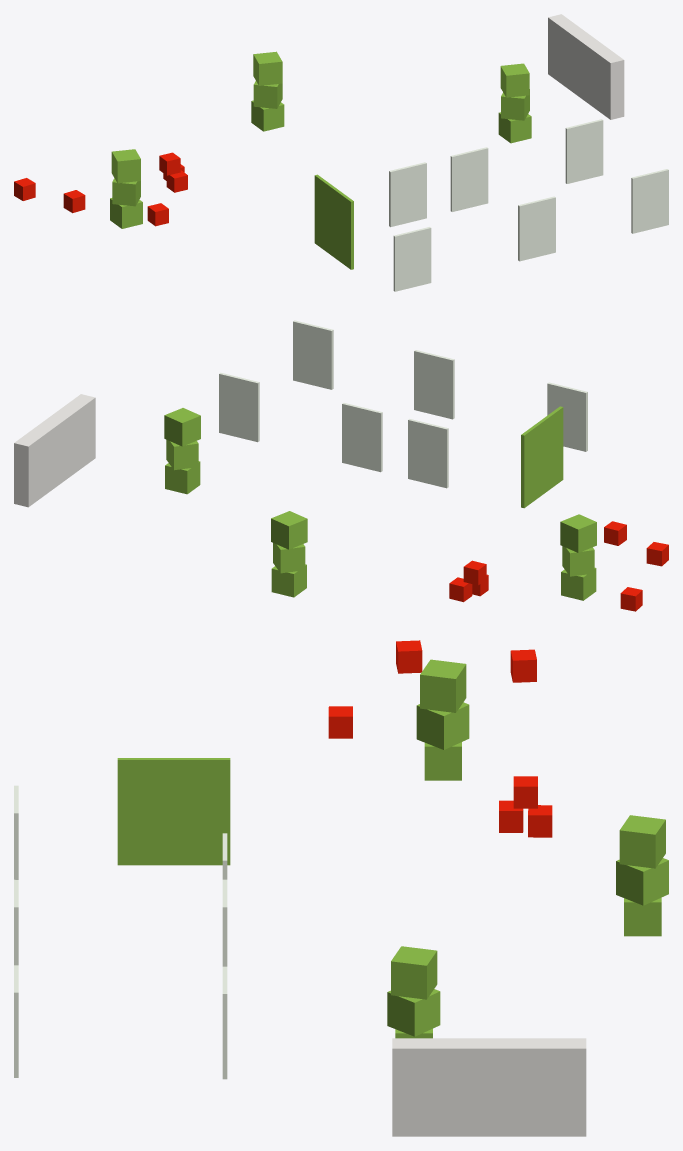
Rendered from Allestimento_Gruppo4.obj.
The picture shows the model from 3 angles, top to bottom: view 1: azimuth 30°, elevation 25°; view 2: azimuth 150°, elevation 25°; view 3: azimuth 270°, elevation 25°; orthographic projection. The views are drawn at different scales.
Parts seen in each view (by area): view 1: Mesh1 Model, Mesh2 Model, Mesh15 Model, Mesh16 Model, Mesh17 Model, Mesh12 Model, Mesh18 Model, Mesh13 Model, Mesh14 Model, Mesh8 Model, Mesh10 Model, Mesh7 Model (+6 smaller); view 2: Mesh1 Model, Mesh2 Model, Mesh17 Model, Mesh13 Model, Mesh18 Model, Mesh12 Model, Mesh16 Model, Mesh15 Model, Mesh10 Model, Mesh8 Model, Mesh14 Model, Mesh3 Model (+6 smaller); view 3: Mesh1 Model, Mesh2 Model, Mesh10 Model, Mesh14 Model, Mesh11 Model, Mesh3 Model, Mesh7 Model, Mesh5 Model, Mesh8 Model, Mesh9 Model, Mesh6 Model, Mesh4 Model.
Part boxes in pixels (bbox=[...]): Mesh1 Model: bbox=[548, 14, 624, 119]; Mesh2 Model: bbox=[314, 174, 353, 269]; Mesh15 Model: bbox=[393, 227, 431, 291]; Mesh16 Model: bbox=[450, 147, 488, 211]; Mesh17 Model: bbox=[565, 119, 603, 183]; Mesh12 Model: bbox=[389, 162, 426, 227]; Mesh18 Model: bbox=[518, 196, 555, 261]; Mesh13 Model: bbox=[631, 169, 668, 233]; Mesh14 Model: bbox=[251, 81, 284, 131]; Mesh8 Model: bbox=[498, 89, 531, 143]; Mesh10 Model: bbox=[110, 178, 142, 228]; Mesh7 Model: bbox=[500, 63, 529, 97]; Mesh1 Model: bbox=[14, 394, 95, 507]; Mesh2 Model: bbox=[521, 406, 563, 508]; Mesh17 Model: bbox=[219, 372, 259, 442]; Mesh13 Model: bbox=[293, 320, 333, 389]; Mesh18 Model: bbox=[414, 350, 454, 419]; Mesh12 Model: bbox=[408, 419, 448, 488]; Mesh16 Model: bbox=[342, 403, 382, 472]; Mesh15 Model: bbox=[547, 382, 587, 451]; Mesh10 Model: bbox=[561, 546, 596, 600]; Mesh8 Model: bbox=[165, 439, 200, 494]; Mesh14 Model: bbox=[271, 543, 306, 597]; Mesh3 Model: bbox=[271, 511, 307, 549]; Mesh1 Model: bbox=[392, 1038, 586, 1136]; Mesh2 Model: bbox=[117, 758, 230, 865]; Mesh10 Model: bbox=[416, 702, 469, 780]; Mesh14 Model: bbox=[616, 858, 668, 936]; Mesh11 Model: bbox=[499, 776, 552, 837]; Mesh3 Model: bbox=[619, 815, 665, 868]; Mesh7 Model: bbox=[391, 946, 437, 999]; Mesh5 Model: bbox=[420, 659, 466, 712]; Mesh8 Model: bbox=[387, 989, 440, 1038]; Mesh9 Model: bbox=[396, 640, 422, 673]; Mesh6 Model: bbox=[510, 649, 536, 682]; Mesh4 Model: bbox=[328, 706, 352, 738].
Bounding box in the file's own units: 322 × 37 × 209.
